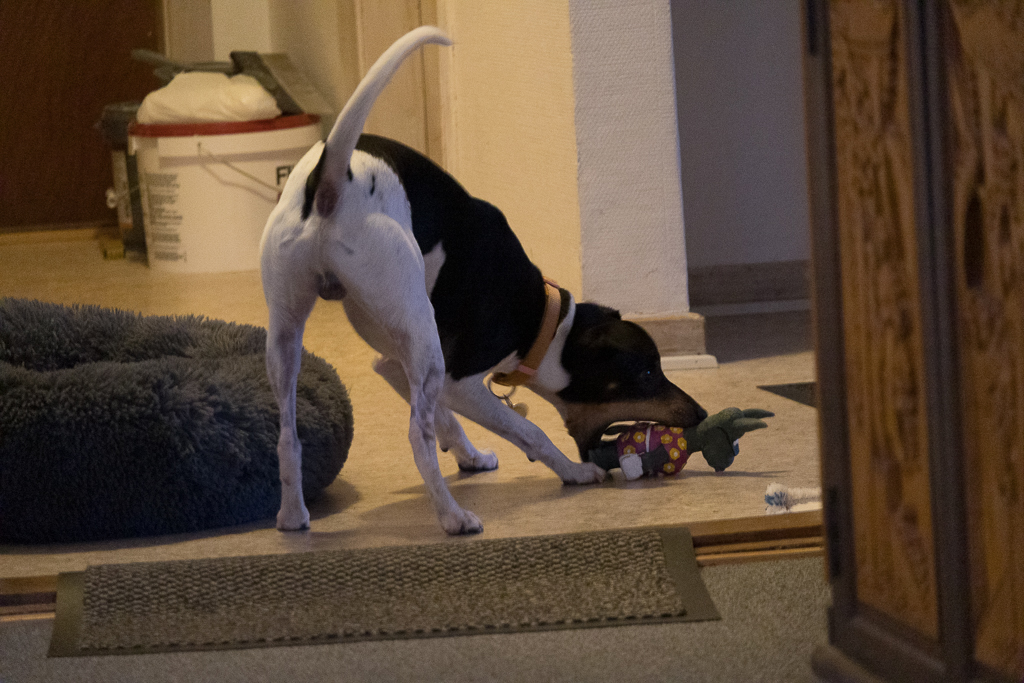Dog: (243, 16, 713, 546)
Humanoid: (584, 398, 780, 492)
